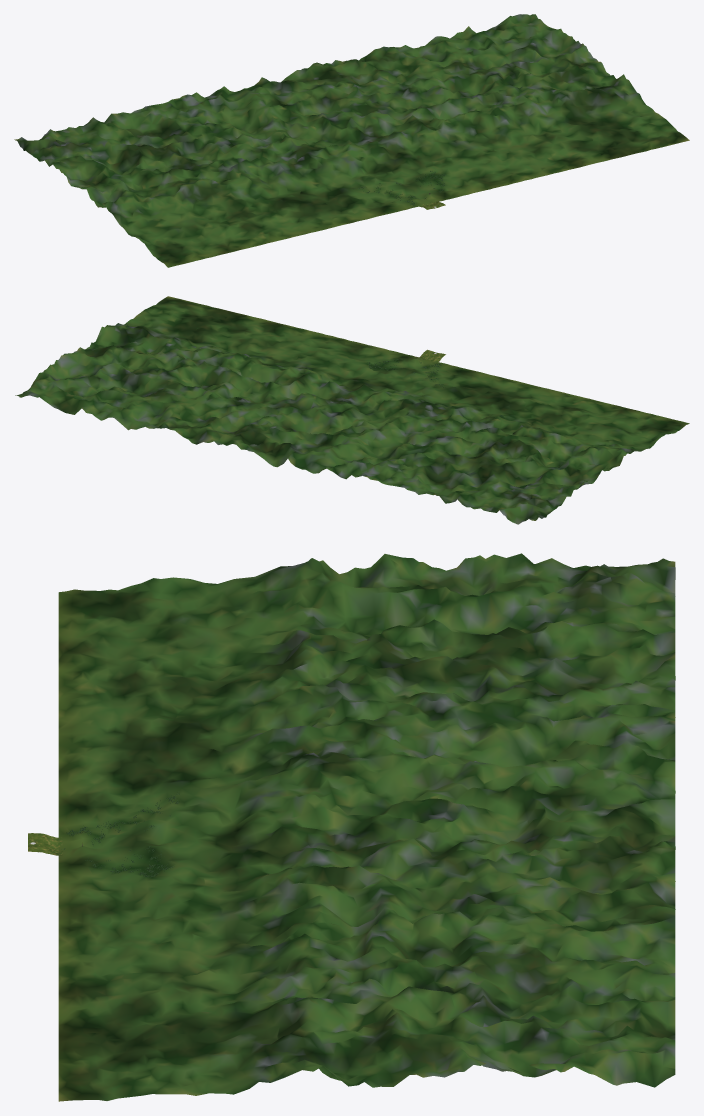
File: runeplaza.glb
The picture shows the model from 3 angles, top to bottom: view 1: azimuth 30°, elevation 25°; view 2: azimuth 150°, elevation 25°; view 3: azimuth 270°, elevation 25°; orthographic projection. The views are drawn at different scales.
Parts seen in each view (by area): view 1: Far; view 2: Far; view 3: Far, Woods.
Part boxes in pixels (left/top/right/bottom): Far: left=14, top=14, right=689, bottom=267; Far: left=15, top=296, right=689, bottom=524; Far: left=58, top=553, right=675, bottom=1101; Woods: left=62, top=791, right=179, bottom=877.
Size of the model in its own units: 4324 by 169 by 2322.
